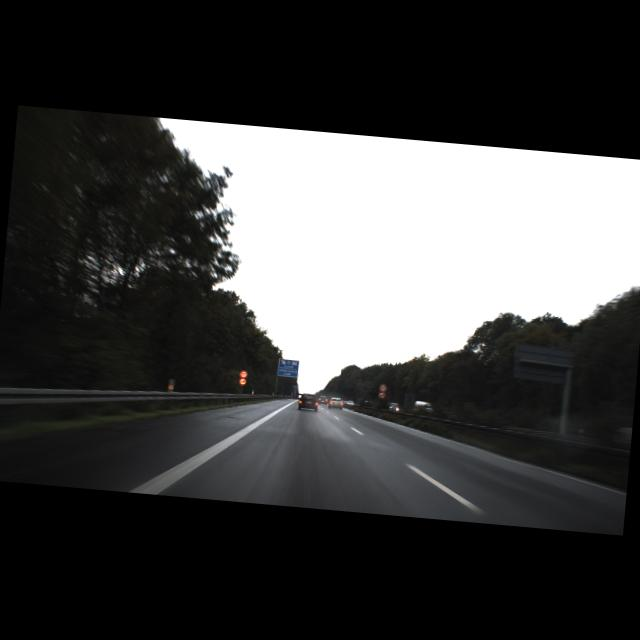prohibitory: (238, 368, 248, 378), (378, 383, 387, 392), (377, 391, 386, 400), (238, 377, 247, 386)
